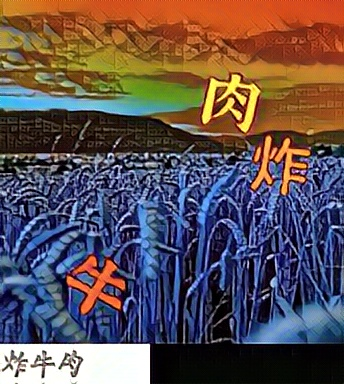C5A3: (65, 251, 129, 318)
C8E2: (197, 69, 261, 136)
D5A8: (248, 132, 312, 199)
